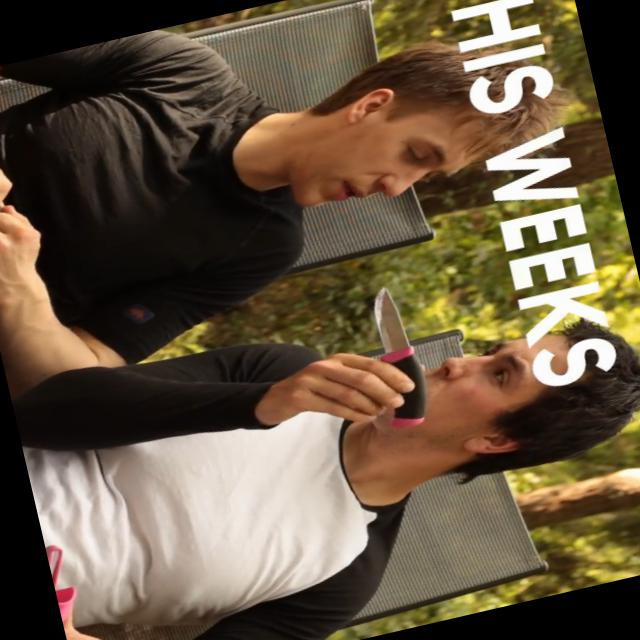knife: (338, 270, 452, 442)
